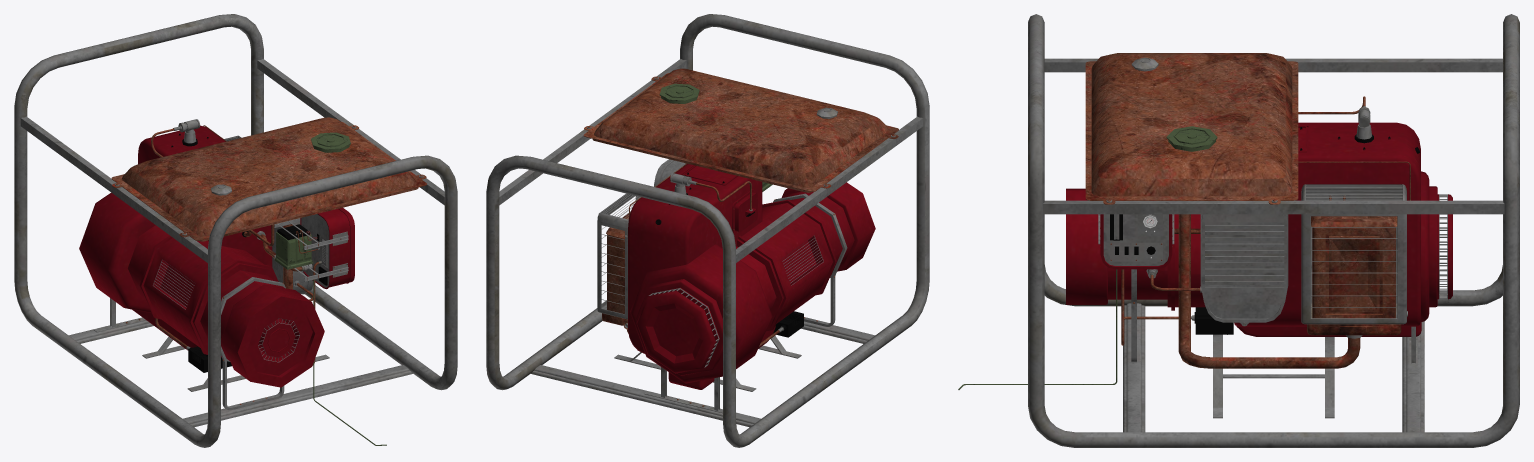
Rendered from electric_generator.fbx.
3 views of the same model, side by side, from view 1: azimuth 30°, elevation 25°; view 2: azimuth 150°, elevation 25°; view 3: azimuth 270°, elevation 25° (orthographic). The views are drawn at different scales.
Parts seen in each view (by area): view 1: electric_generator, lid_1; view 2: electric_generator, lid_1, lid_2; view 3: electric_generator, lid_1, lid_2.
Part boxes in pixels (x1=…): electric_generator: x1=14, y1=14, x2=457, y2=447; lid_1: x1=111, y1=117, x2=426, y2=241; electric_generator: x1=486, y1=14, x2=929, y2=447; lid_1: x1=583, y1=68, x2=898, y2=192; lid_2: x1=597, y1=193, x2=640, y2=228; electric_generator: x1=958, y1=14, x2=1519, y2=447; lid_1: x1=1085, y1=53, x2=1298, y2=204; lid_2: x1=1301, y1=184, x2=1406, y2=200.
Size of the model in its own units: 126 by 122 by 201.
Materials: 2 (1 with a texture image).
